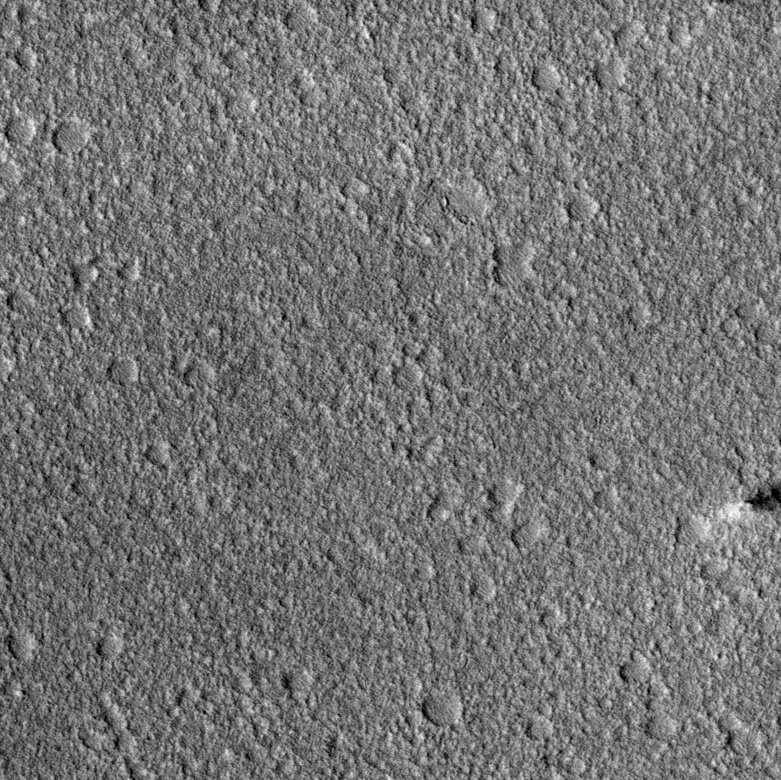dust_devil: (715, 482, 781, 525)
